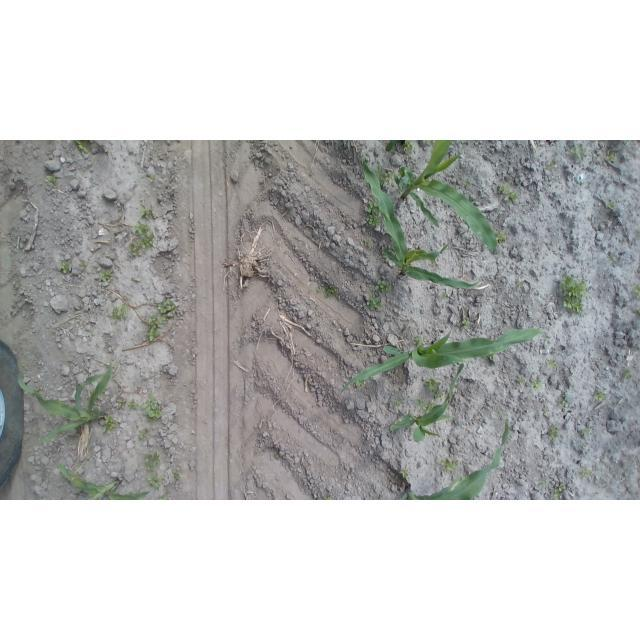Maize: (361, 155, 481, 289), (340, 327, 544, 395), (393, 140, 499, 252), (395, 421, 510, 500), (17, 357, 114, 444), (392, 362, 465, 443), (55, 462, 151, 500)
Weeds: (146, 299, 176, 341), (560, 276, 588, 317), (129, 221, 154, 256), (139, 394, 164, 423), (366, 200, 383, 228), (423, 380, 445, 401), (108, 301, 129, 322), (375, 166, 393, 189), (498, 183, 518, 202), (316, 284, 339, 300), (144, 451, 161, 471), (102, 414, 118, 434), (146, 472, 163, 490), (416, 398, 435, 414), (367, 292, 382, 311), (569, 143, 589, 157), (441, 456, 458, 472), (72, 140, 92, 152), (551, 484, 565, 500), (139, 203, 153, 219), (375, 280, 392, 293), (138, 427, 151, 442), (496, 231, 509, 246), (40, 172, 56, 184), (100, 268, 113, 282), (59, 261, 73, 274), (403, 141, 417, 154), (548, 425, 560, 440), (391, 397, 406, 408), (412, 336, 424, 348), (532, 376, 543, 389), (594, 391, 607, 402), (400, 468, 413, 478), (128, 400, 139, 411), (546, 359, 558, 369), (171, 468, 181, 480), (72, 468, 81, 481), (631, 283, 640, 296), (606, 151, 616, 162), (16, 356, 25, 368), (624, 368, 633, 380), (364, 239, 374, 249), (560, 397, 569, 408), (462, 318, 471, 329), (118, 397, 127, 408), (353, 380, 367, 387), (148, 172, 157, 182), (583, 469, 592, 479), (608, 200, 617, 210), (608, 252, 615, 264), (440, 292, 449, 301), (80, 262, 89, 271), (464, 180, 472, 188), (516, 280, 524, 288), (538, 481, 547, 488), (546, 163, 555, 170), (583, 428, 590, 437), (519, 376, 525, 386), (540, 408, 548, 415), (489, 354, 496, 361), (392, 143, 400, 149), (160, 495, 169, 500), (322, 496, 333, 500), (274, 453, 280, 460), (500, 411, 505, 419), (97, 394, 103, 400), (426, 141, 433, 146), (635, 308, 640, 315), (386, 140, 390, 146), (449, 143, 453, 149), (580, 445, 584, 451), (460, 141, 464, 146), (383, 148, 385, 150)
